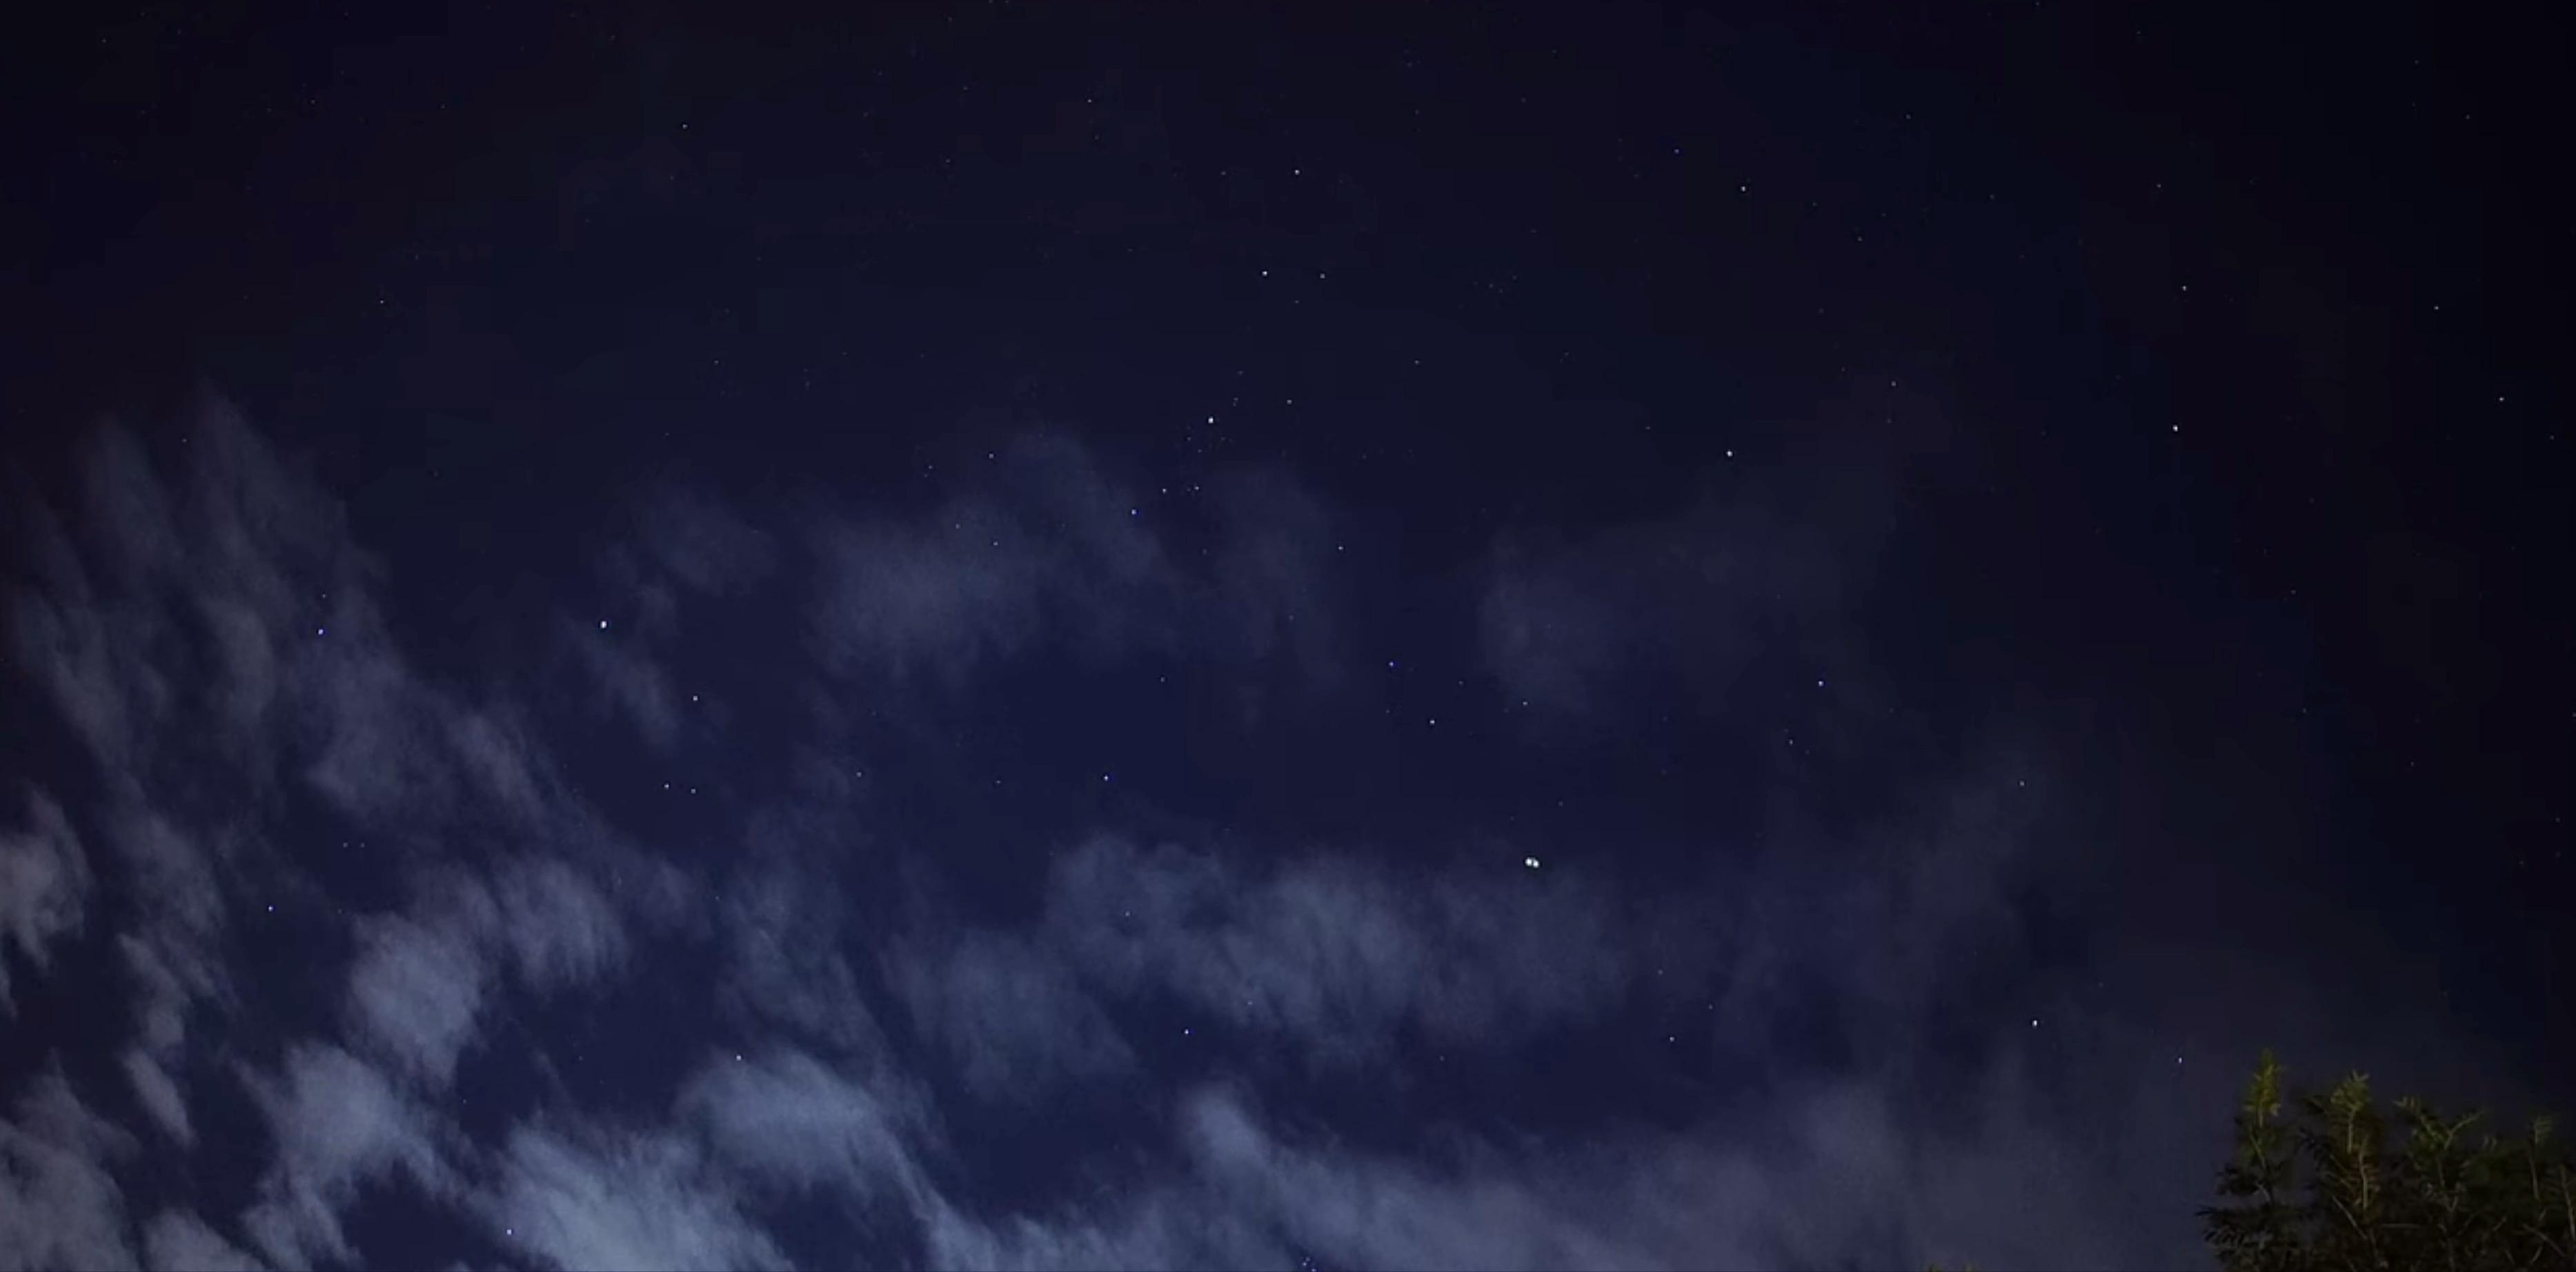Plane: (1513, 843, 1549, 886)
